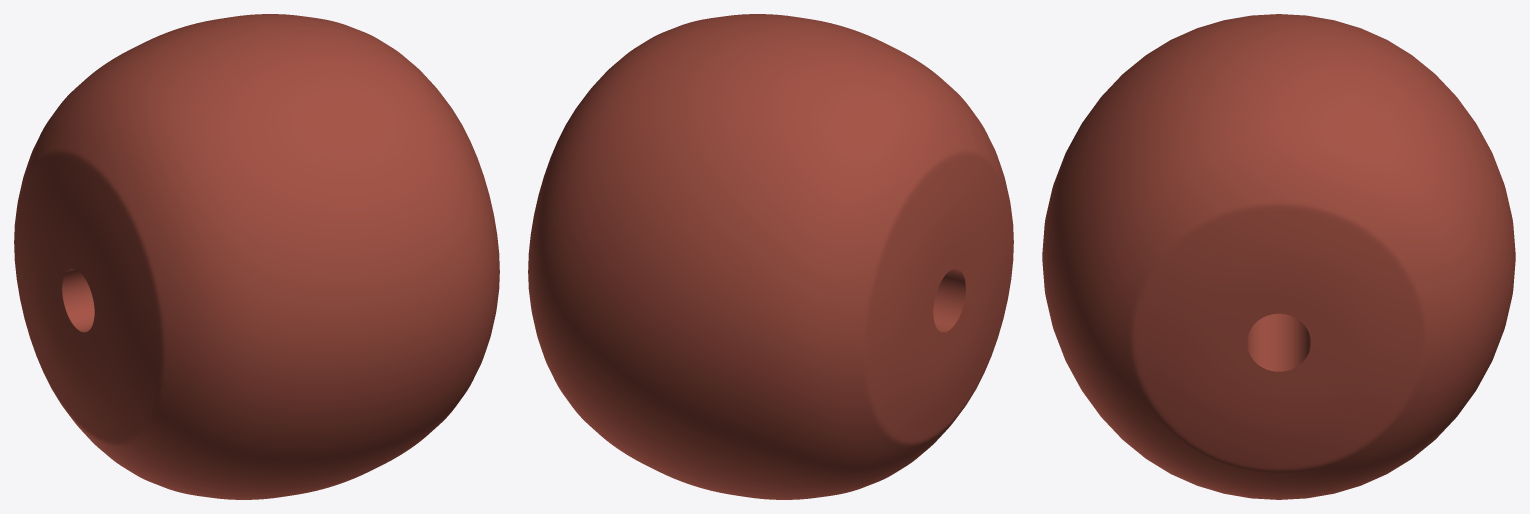
The model's file is 红玛瑙.gltf.
3 views of the same model, side by side, from view 1: azimuth 30°, elevation 25°; view 2: azimuth 150°, elevation 25°; view 3: azimuth 270°, elevation 25° (orthographic).
Visible parts, largest first — view 1: JewelCAD_2; view 2: JewelCAD_2; view 3: JewelCAD_2.
Boxes of the visible parts, <box> form: JewelCAD_2: <box>14,14,499,499</box>; JewelCAD_2: <box>528,14,1013,499</box>; JewelCAD_2: <box>1042,14,1515,499</box>.
Size of the model in its own units: 0.006 by 0.007 by 0.007.
